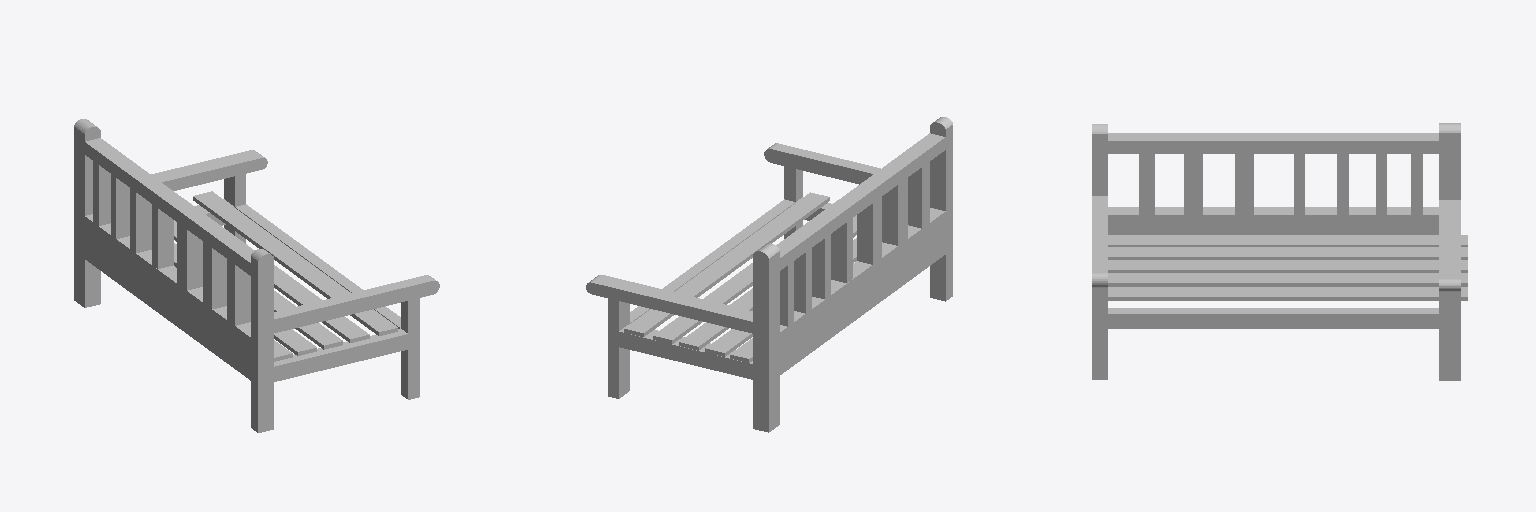
Rendered from benchwood.obj.
3 views of the same model, side by side, from view 1: azimuth 30°, elevation 25°; view 2: azimuth 150°, elevation 25°; view 3: azimuth 270°, elevation 25° (orthographic).
Visible parts, largest first — view 1: mesh5.001_mesh5-geometry, mesh1.001_mesh1-geometry, mesh3.006_mesh3-geometry, mesh3.008_mesh3-geometry, mesh3.010_mesh3-geometry, mesh3.009_mesh3-geometry; view 2: mesh5.001_mesh5-geometry, mesh1.001_mesh1-geometry, mesh3.006_mesh3-geometry, mesh3.008_mesh3-geometry, mesh3.010_mesh3-geometry, mesh3.009_mesh3-geometry; view 3: mesh5.001_mesh5-geometry, mesh1.001_mesh1-geometry, mesh3.008_mesh3-geometry, mesh3.006_mesh3-geometry, mesh3.010_mesh3-geometry, mesh3.009_mesh3-geometry, mesh3.007_mesh3-geometry.
Part boxes in pixels (left/top/right/bottom): mesh5.001_mesh5-geometry: left=74, top=119, right=439, bottom=432; mesh1.001_mesh1-geometry: left=85, top=199, right=407, bottom=381; mesh3.006_mesh3-geometry: left=193, top=191, right=397, bottom=335; mesh3.008_mesh3-geometry: left=183, top=198, right=369, bottom=342; mesh3.010_mesh3-geometry: left=174, top=220, right=342, bottom=349; mesh3.009_mesh3-geometry: left=174, top=243, right=316, bottom=355; mesh5.001_mesh5-geometry: left=586, top=117, right=952, bottom=432; mesh1.001_mesh1-geometry: left=619, top=197, right=945, bottom=379; mesh3.006_mesh3-geometry: left=624, top=192, right=829, bottom=336; mesh3.008_mesh3-geometry: left=653, top=200, right=837, bottom=343; mesh3.010_mesh3-geometry: left=679, top=215, right=856, bottom=350; mesh3.009_mesh3-geometry: left=705, top=238, right=856, bottom=356; mesh5.001_mesh5-geometry: left=1092, top=123, right=1460, bottom=380; mesh1.001_mesh1-geometry: left=1108, top=207, right=1438, bottom=328; mesh3.008_mesh3-geometry: left=1108, top=273, right=1467, bottom=286; mesh3.006_mesh3-geometry: left=1108, top=287, right=1467, bottom=300; mesh3.010_mesh3-geometry: left=1108, top=260, right=1467, bottom=272; mesh3.009_mesh3-geometry: left=1108, top=247, right=1467, bottom=259; mesh3.007_mesh3-geometry: left=1108, top=235, right=1467, bottom=246.
Bounding box in the file's own units: 0.4449 × 0.4231 × 0.7893.